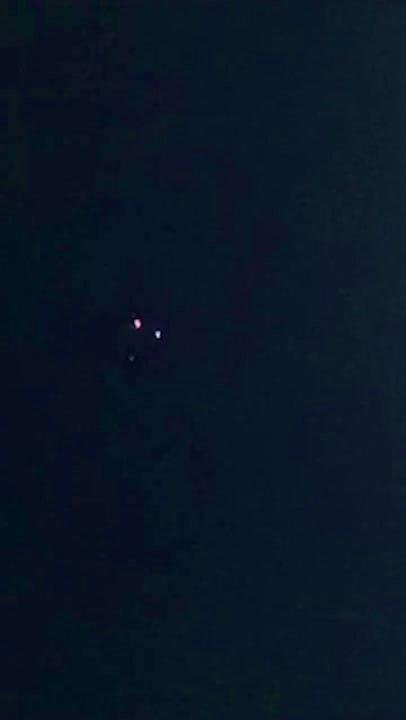Plane: (115, 314, 184, 372)
